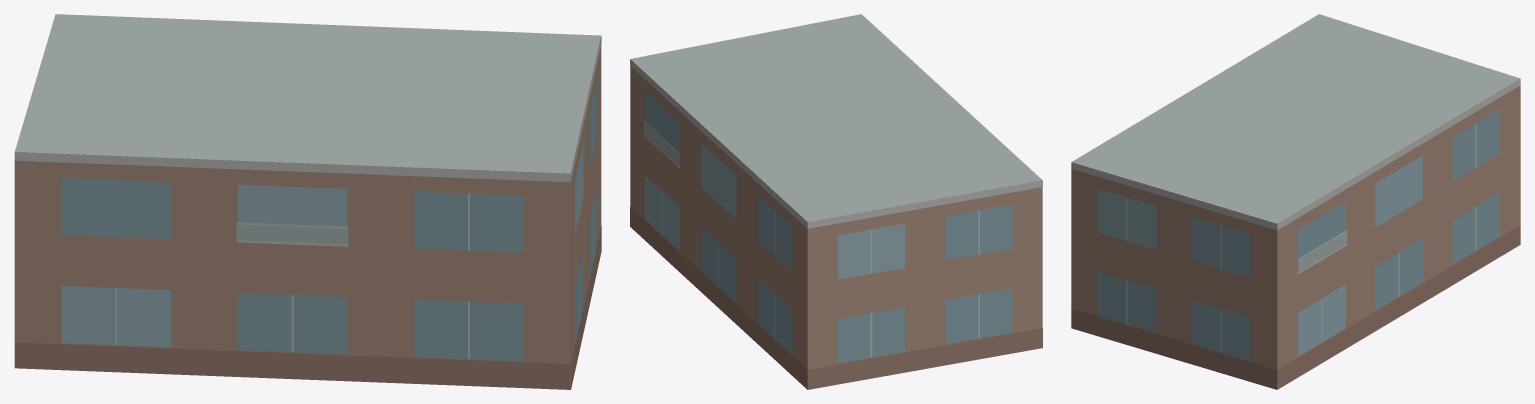
The model's file is survey-upis-32866768.glb.
3 views of the same model, side by side, from view 1: azimuth 30°, elevation 25°; view 2: azimuth 150°, elevation 25°; view 3: azimuth 270°, elevation 25° (orthographic). The views are drawn at different scales.
Visible parts, largest first — view 1: survey-upis-32866768.tmp; view 2: survey-upis-32866768.tmp; view 3: survey-upis-32866768.tmp.
Part boxes in pixels (x1=…): survey-upis-32866768.tmp: x1=14, y1=14, x2=601, y2=389; survey-upis-32866768.tmp: x1=630, y1=14, x2=1042, y2=389; survey-upis-32866768.tmp: x1=1071, y1=14, x2=1520, y2=389.
Size of the model in its own units: 16.52 by 6.1 by 14.96.
